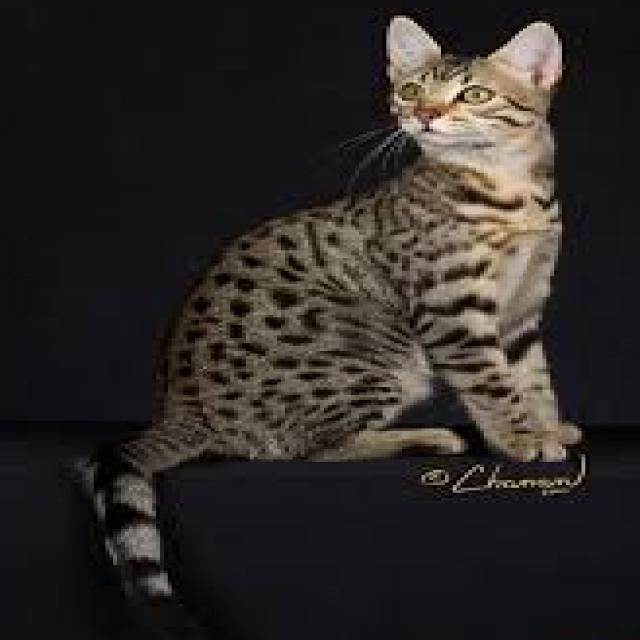Egyptian Mau: (62, 10, 586, 640)
